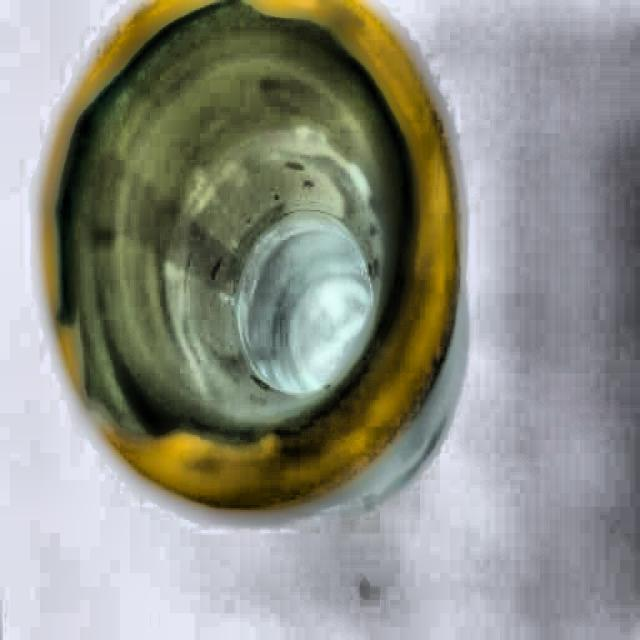glass: (35, 0, 480, 527)
